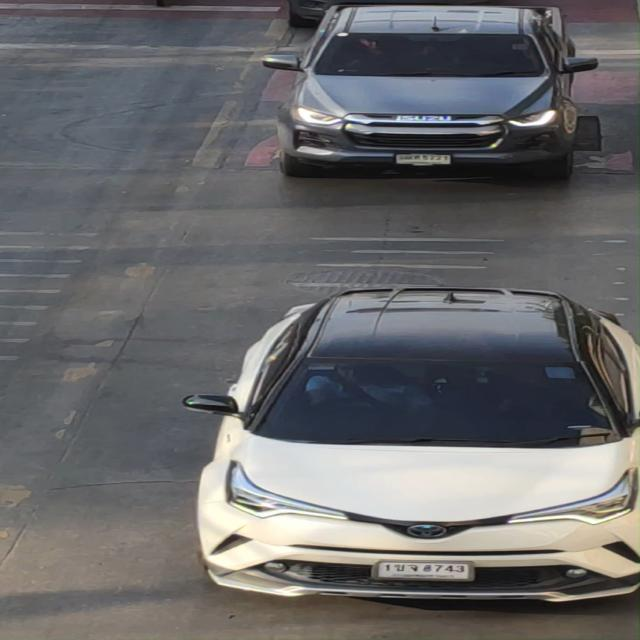car: (176, 262, 640, 622), (259, 0, 640, 183)
